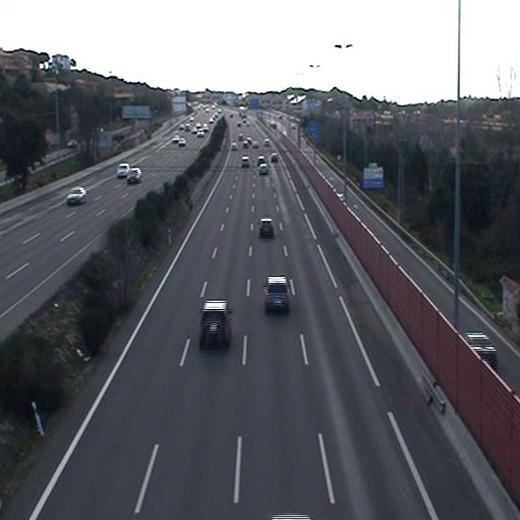car: (195, 296, 237, 350), (260, 273, 296, 317), (256, 216, 278, 242), (256, 163, 272, 179), (238, 155, 252, 172)
